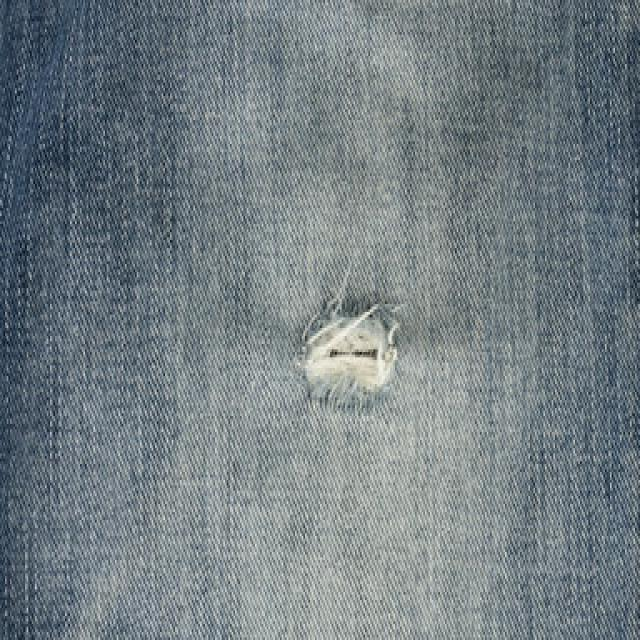Hole: (299, 300, 398, 389)
